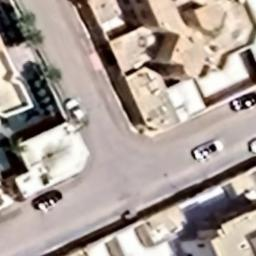sedan: (189, 136, 225, 160), (66, 98, 87, 124)
unknown: (30, 190, 66, 213), (229, 90, 256, 112)
